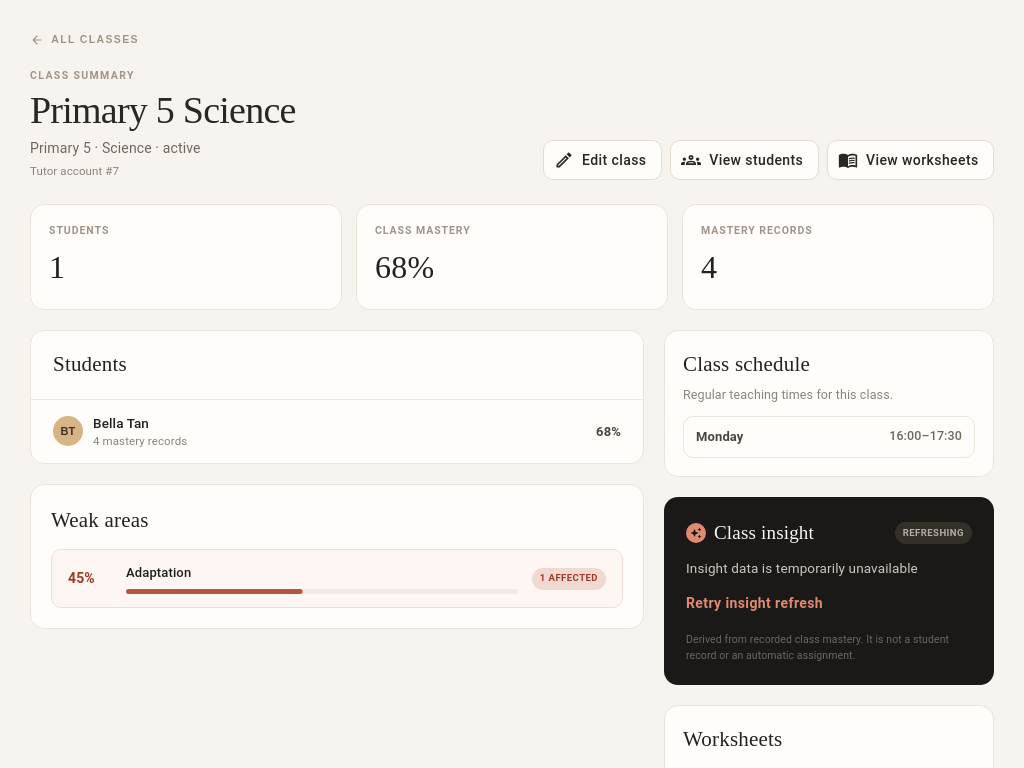
Test: ClassDetail › keeps class data visible when the persisted insight snapshot cannot be loaded, then retries it
This screenshot has width=1024, height=768.
Expected: the text "Bella Tan" is shown, [93,415,149,431]
Expected: the text "Insight data is temporarily unavailable" is shown, [686,560,918,576]
Click the button "Retry insight refresh" at (755, 604), box [686,585,823,622]
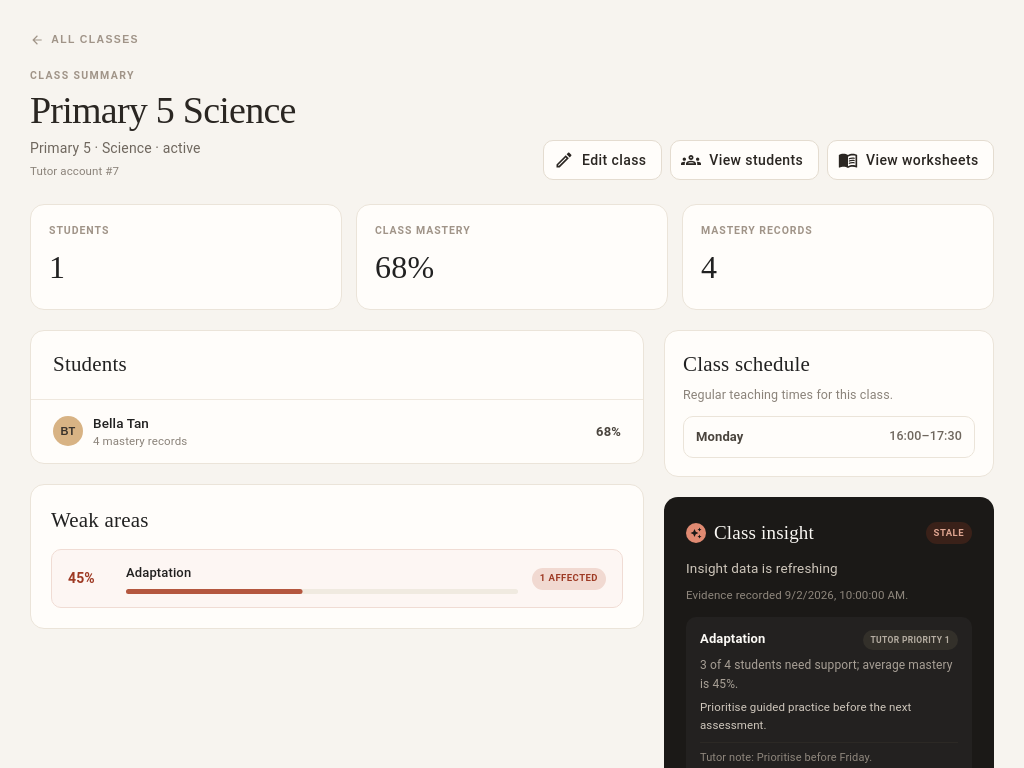
Result: the text "STALE" is shown at [934,527,964,538]
Result: the text "Insight data is refreshing" is shown at [686,560,838,576]
